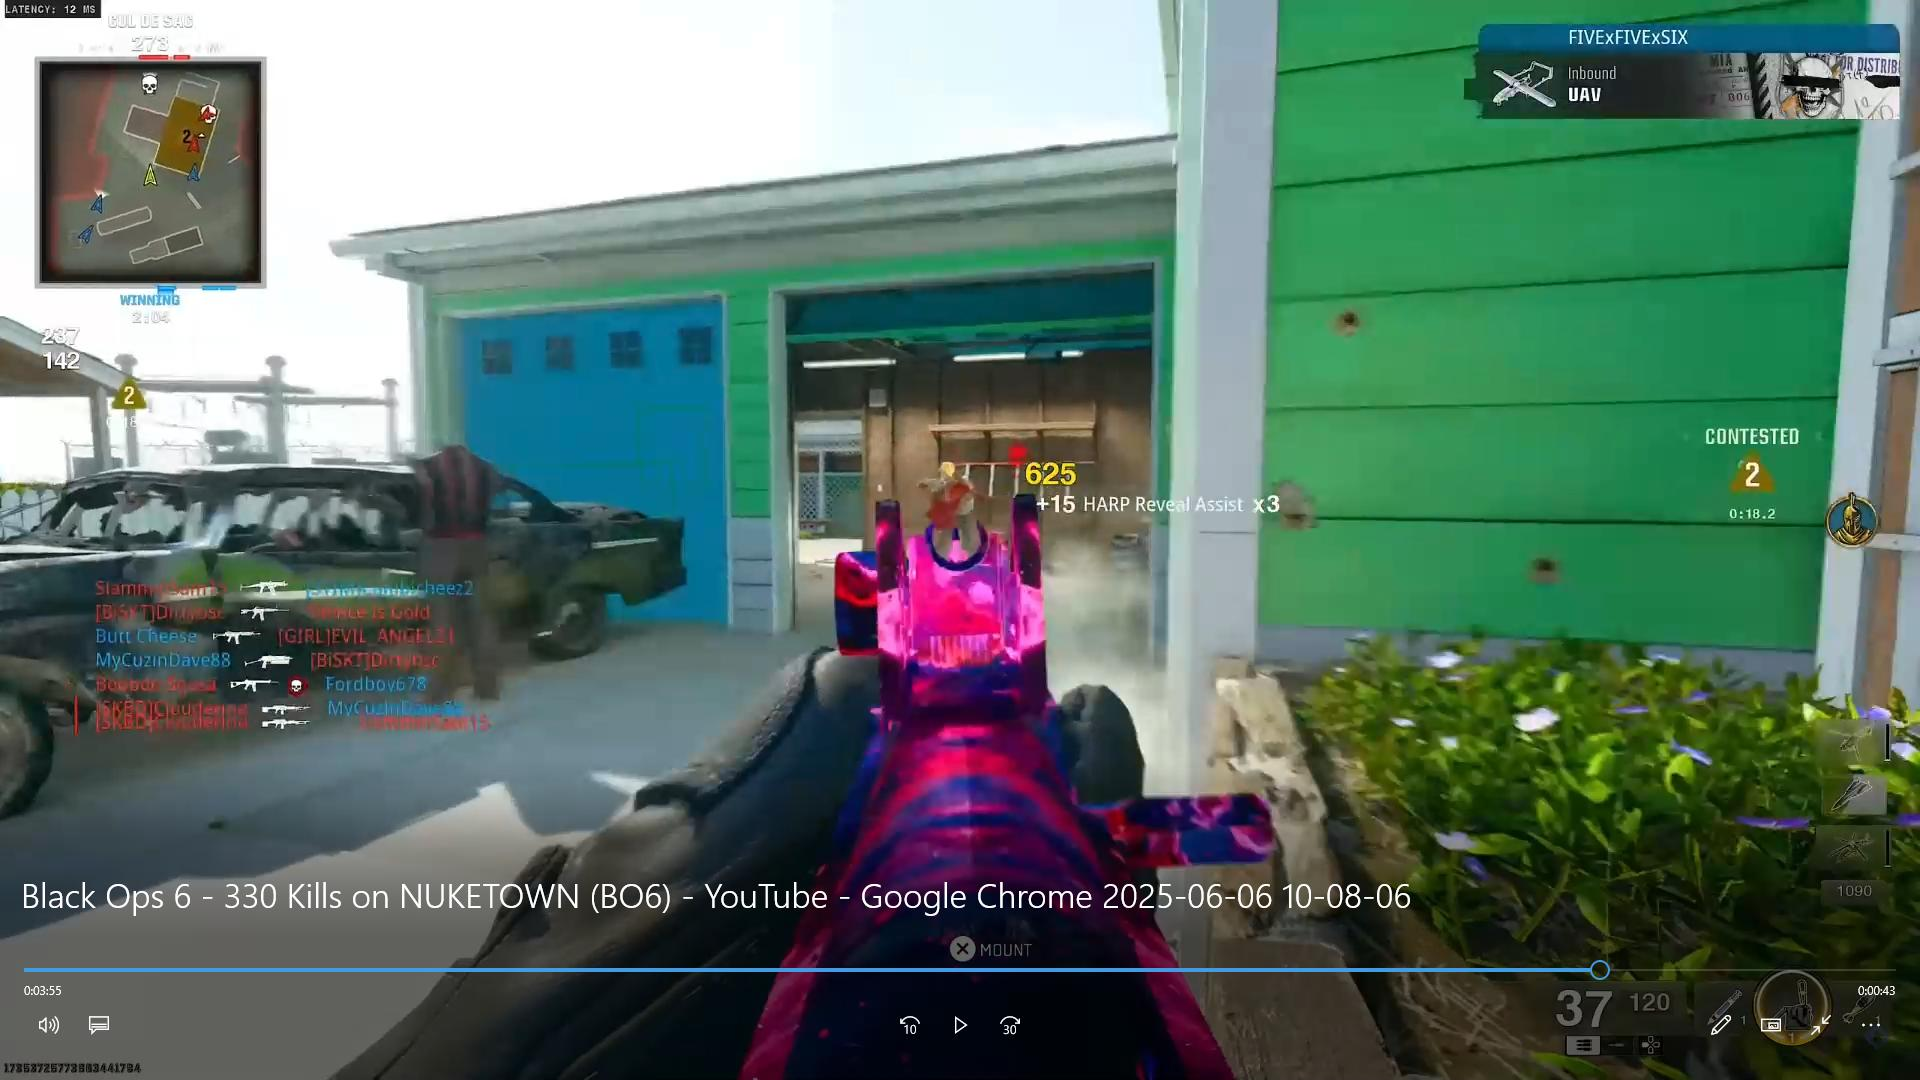Enemy: (913, 439, 986, 538)
